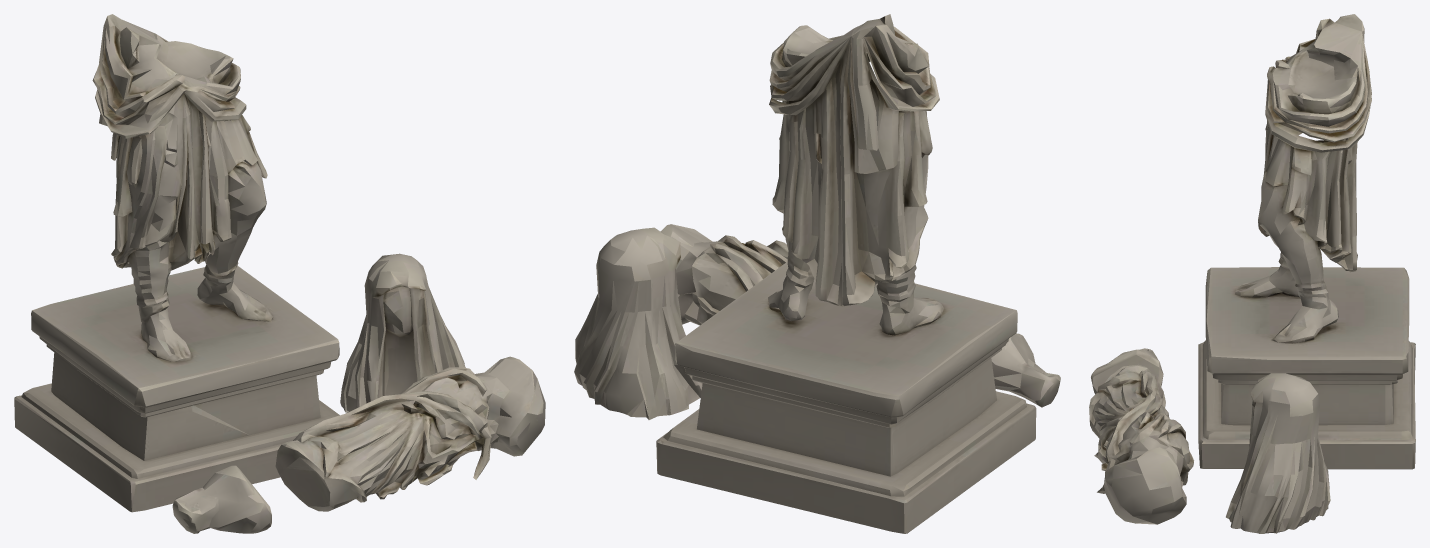
File: statue_veiled_broken.glb
3 renders of one model, left to right at view 1: azimuth 30°, elevation 25°; view 2: azimuth 150°, elevation 25°; view 3: azimuth 270°, elevation 25°, orthographic. The views are drawn at different scales.
Parts seen in each view (by area): view 1: statue_veiled_broken; view 2: statue_veiled_broken; view 3: statue_veiled_broken.
Part boxes in pixels (x1=…): statue_veiled_broken: x1=14, y1=14, x2=545, y2=533; statue_veiled_broken: x1=574, y1=14, x2=1060, y2=533; statue_veiled_broken: x1=1089, y1=14, x2=1415, y2=533.
Bounding box in the file's own units: 1.18 × 1.25 × 0.9662.
1 material, 1 textured.
